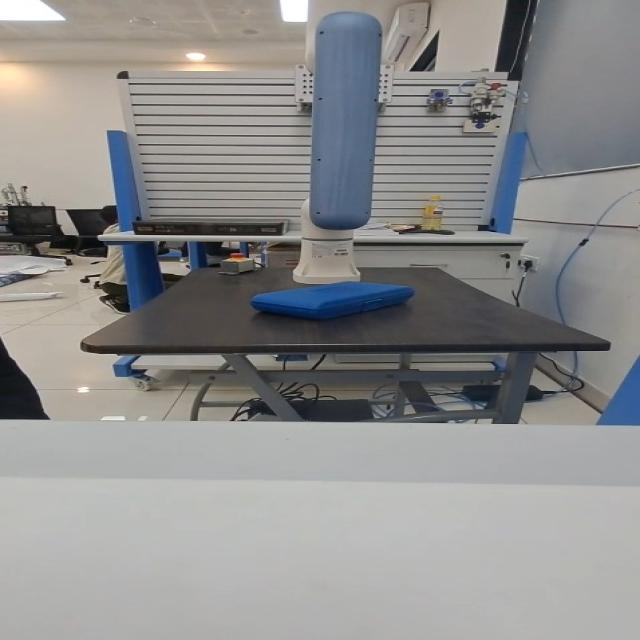top-surface: (278, 284, 390, 300)
